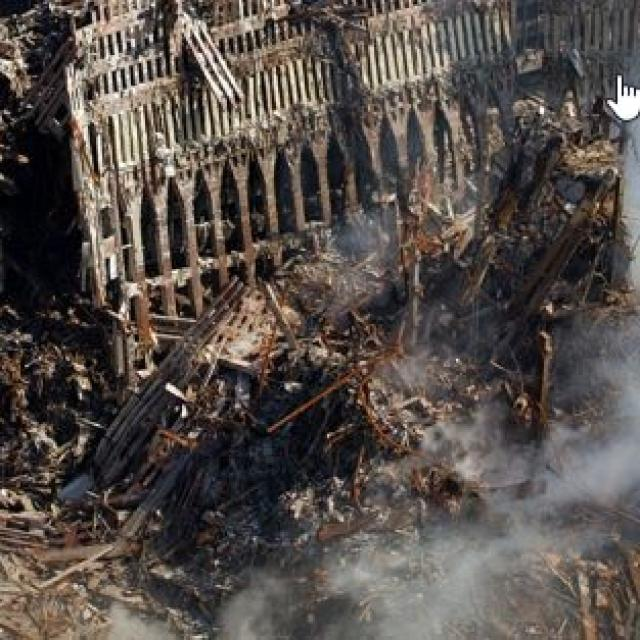collapsed_building: (49, 4, 603, 483)
